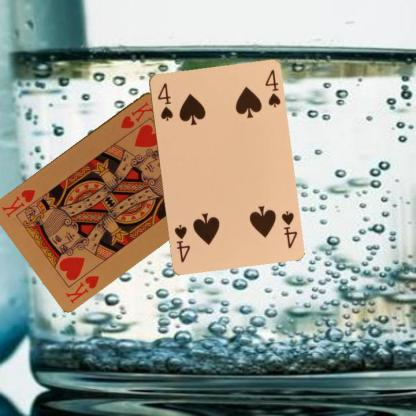4s: (155, 80, 174, 122), (279, 208, 298, 250)
Kh: (62, 271, 100, 304), (118, 99, 154, 130)
